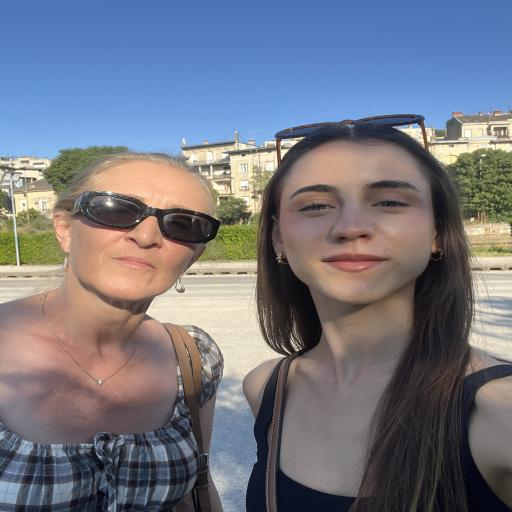masa: (286, 150, 438, 296)
